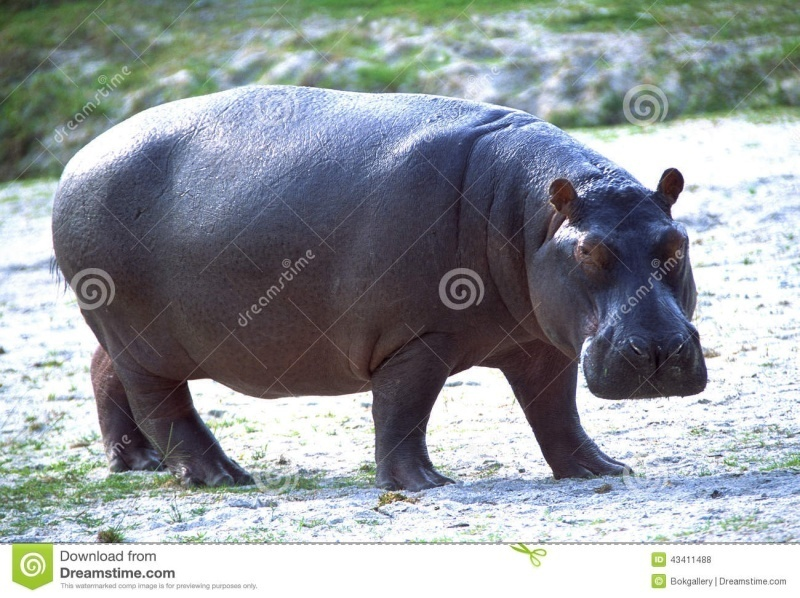hipopotamo: (46, 80, 713, 492)
